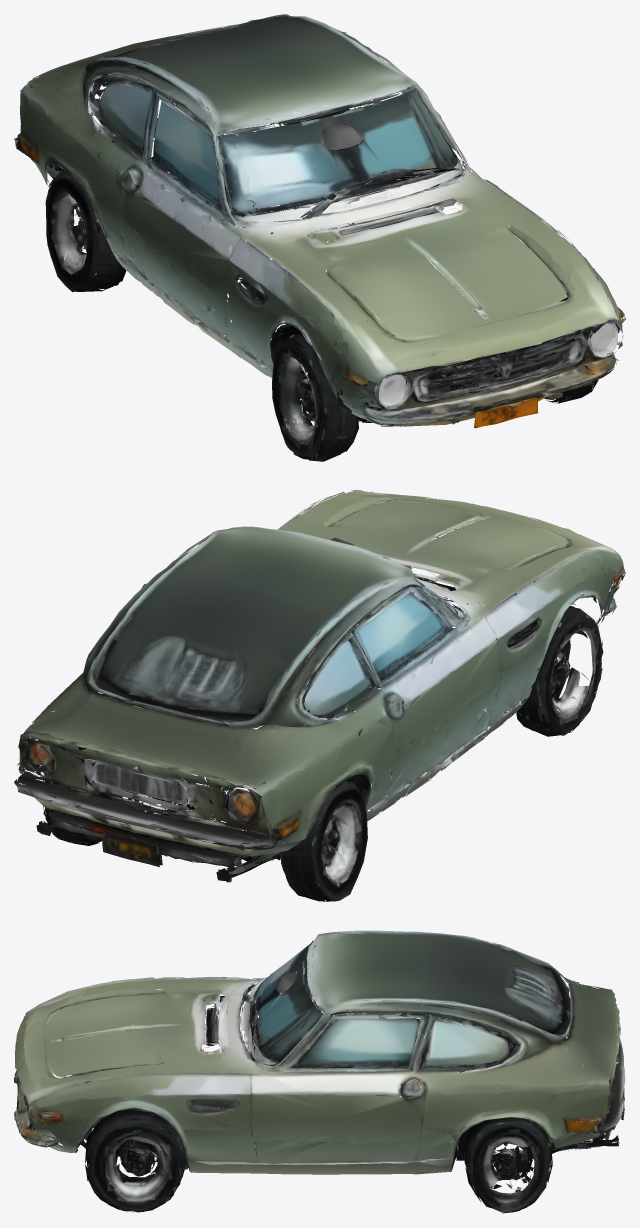
The model's file is car_1784773314_45181352.glb.
The picture shows the model from 3 angles, top to bottom: view 1: azimuth 30°, elevation 25°; view 2: azimuth 150°, elevation 25°; view 3: azimuth 270°, elevation 25°; orthographic projection. The views are drawn at different scales.
Parts seen in each view (by area): view 1: Hero; view 2: Hero; view 3: Hero.
Boxes of the visible parts, x1,y1,x2,y2 form: Hero: (14, 14, 625, 461); Hero: (14, 490, 625, 901); Hero: (14, 930, 625, 1213).
Bounding box in the file's own units: 0.6062 × 0.4992 × 1.4.
Materials: 1 (1 with a texture image).
